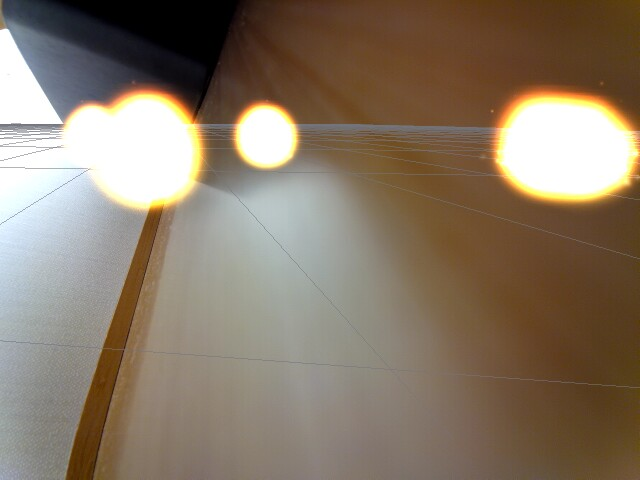firebig: (101, 75, 200, 215)
